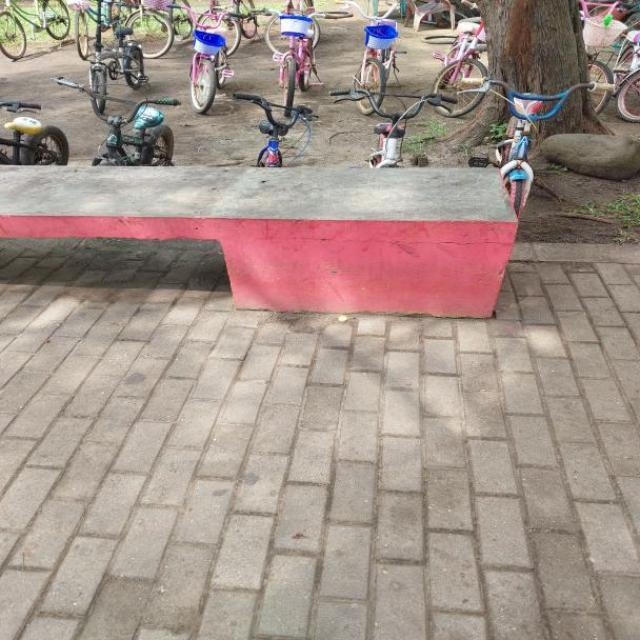bicycle ahead at: (66, 2, 156, 110), (423, 8, 502, 116), (266, 6, 330, 118), (174, 8, 244, 108), (347, 5, 408, 112)
